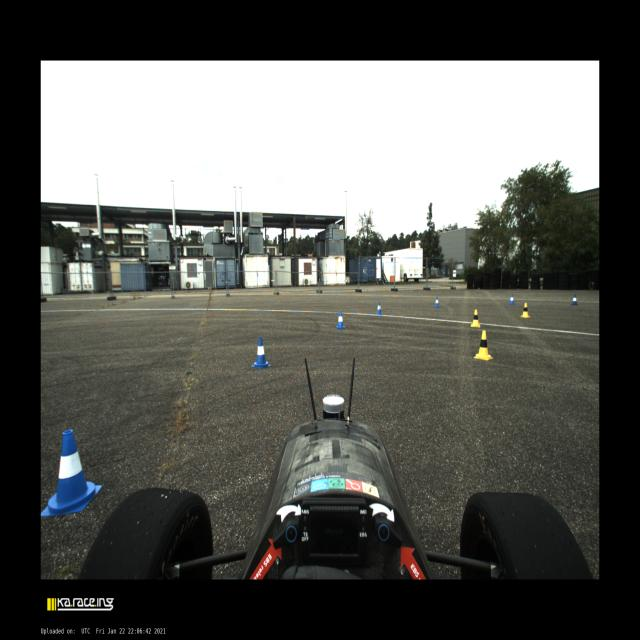blue_cone: (41, 428, 102, 519), (252, 337, 270, 369), (336, 311, 346, 330), (376, 302, 382, 315), (434, 296, 440, 308), (571, 295, 578, 305), (509, 294, 515, 305)
yellow_cone: (474, 330, 493, 360), (471, 310, 480, 327), (520, 303, 530, 318)
